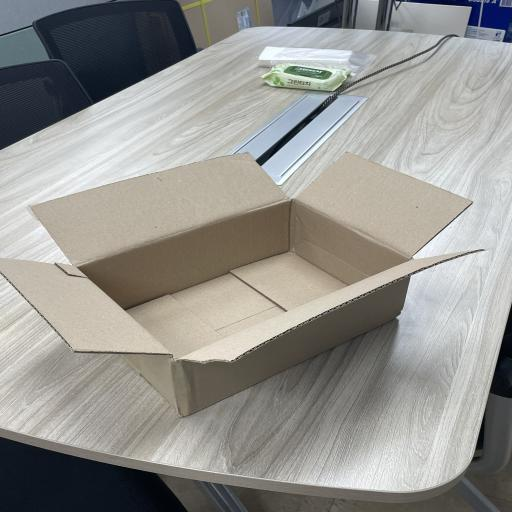box: (1, 151, 492, 417)
opened: (1, 152, 493, 366)
